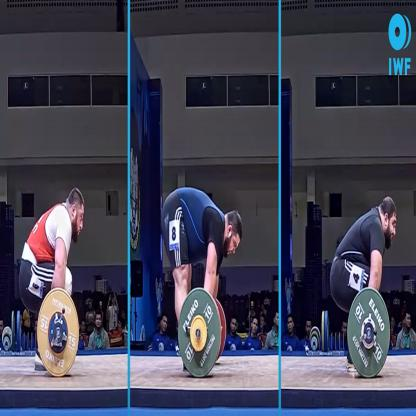Barbell: (172, 283, 227, 383), (30, 282, 84, 382), (343, 283, 392, 380)
